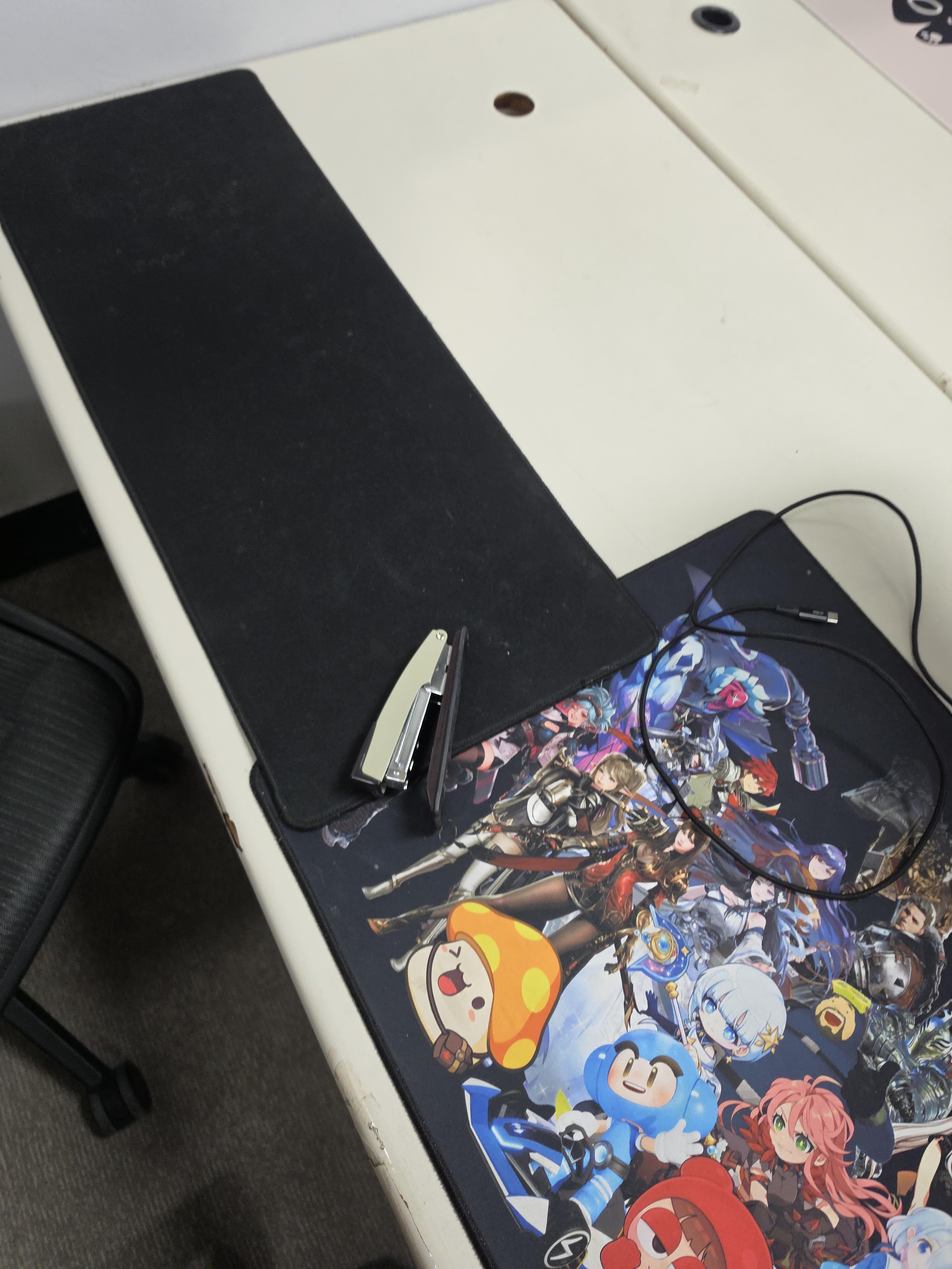stapler: (351, 626, 469, 834)
